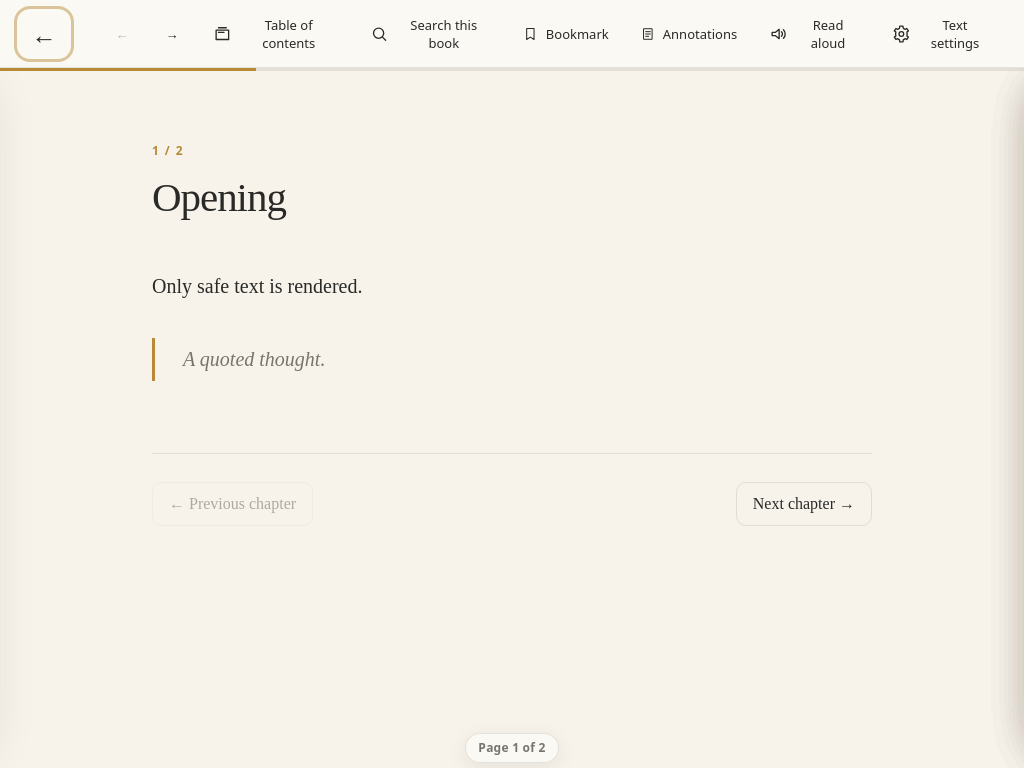
Test: ReaderScreen › continues narration into the next section and updates the visible reader
This screenshot has width=1024, height=768.
Click the button "Read aloud" at [815, 34], box [756, 12, 873, 56]
(page scrolled)
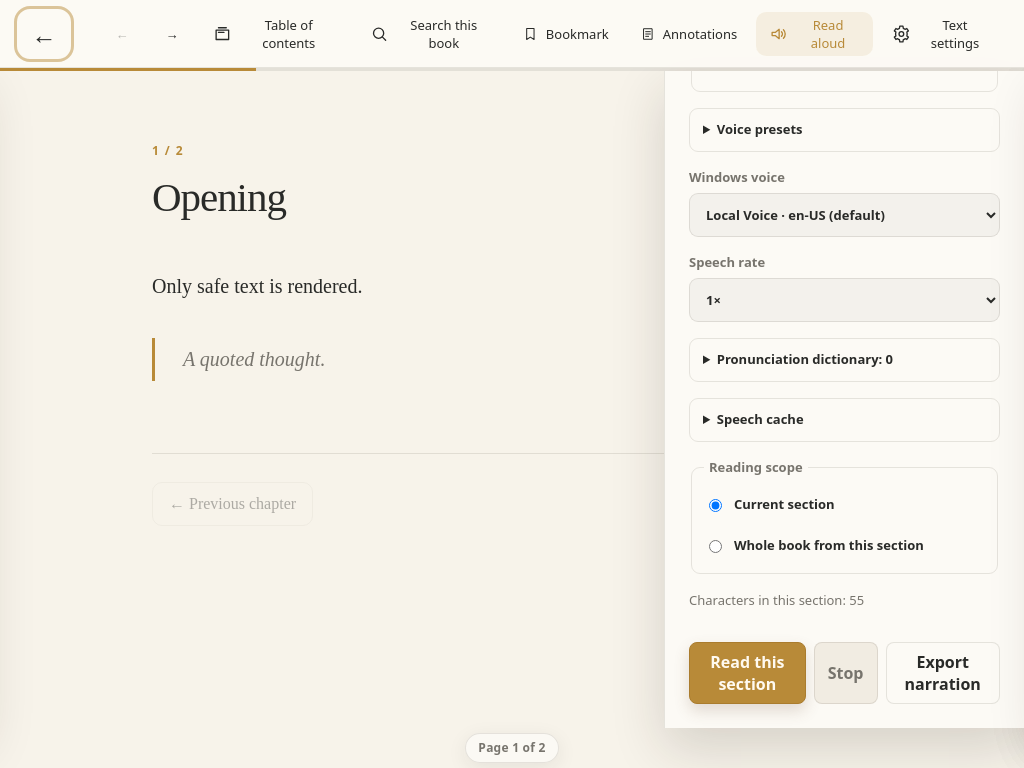
Click the radio button labelled "Whole book from this section" at [716, 547], box [709, 540, 722, 553]
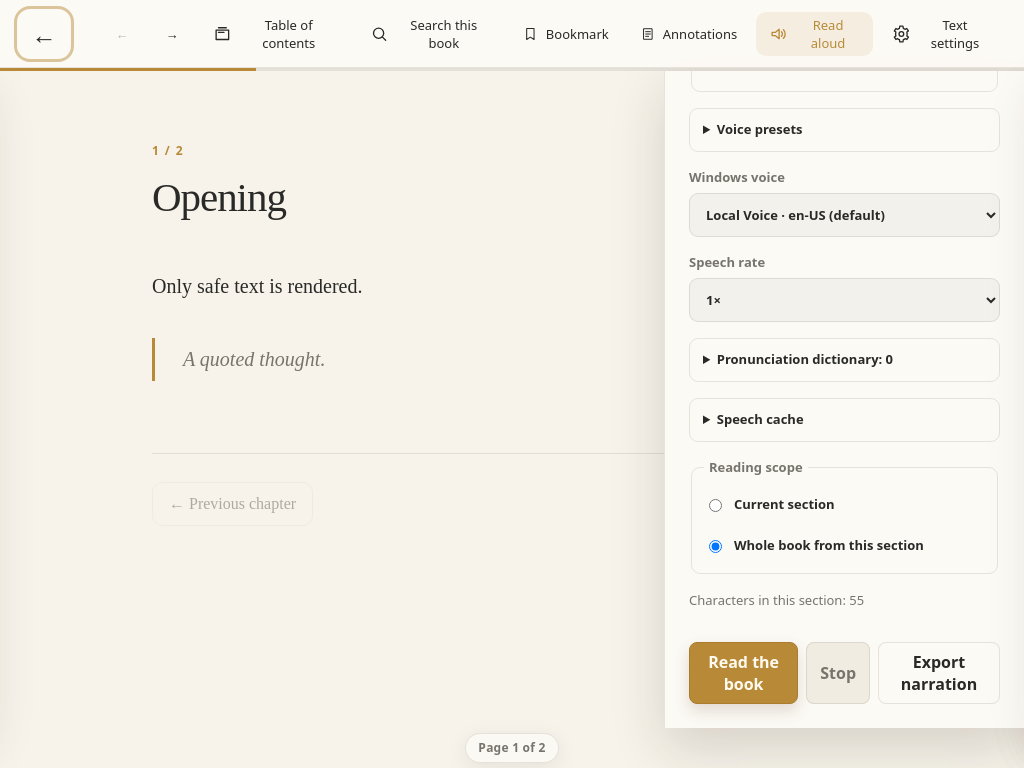
Click the button "Read the book" at [744, 673], box [689, 642, 798, 704]
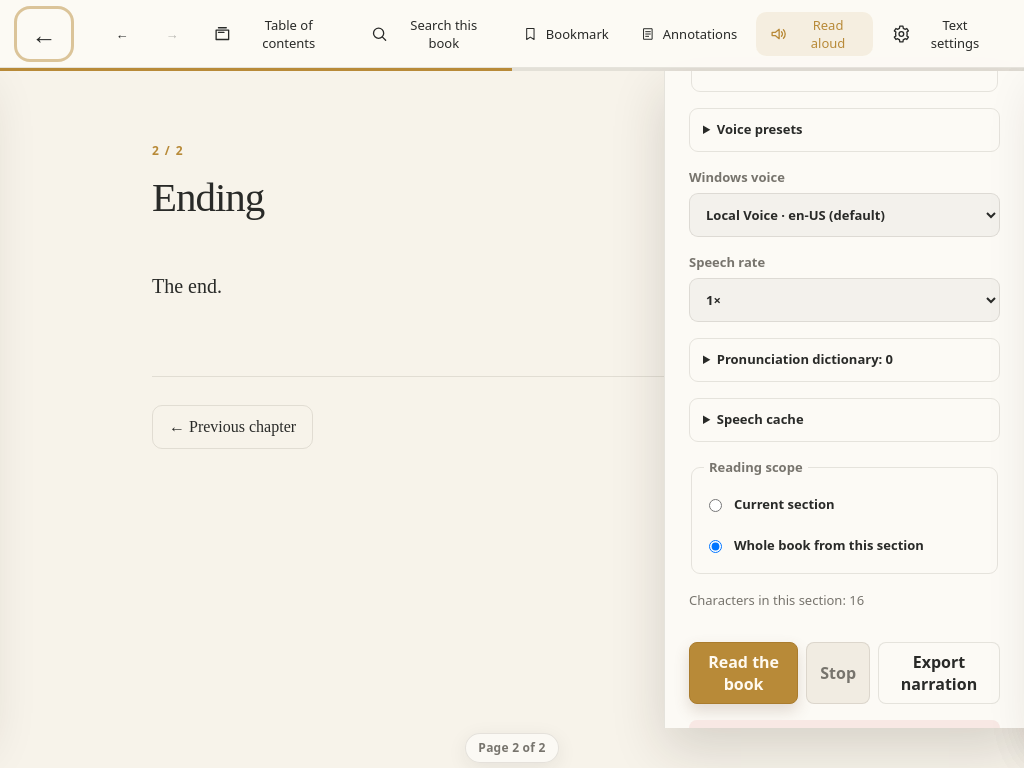
Expected: the heading "Ending" is shown, [152, 174, 264, 220]
